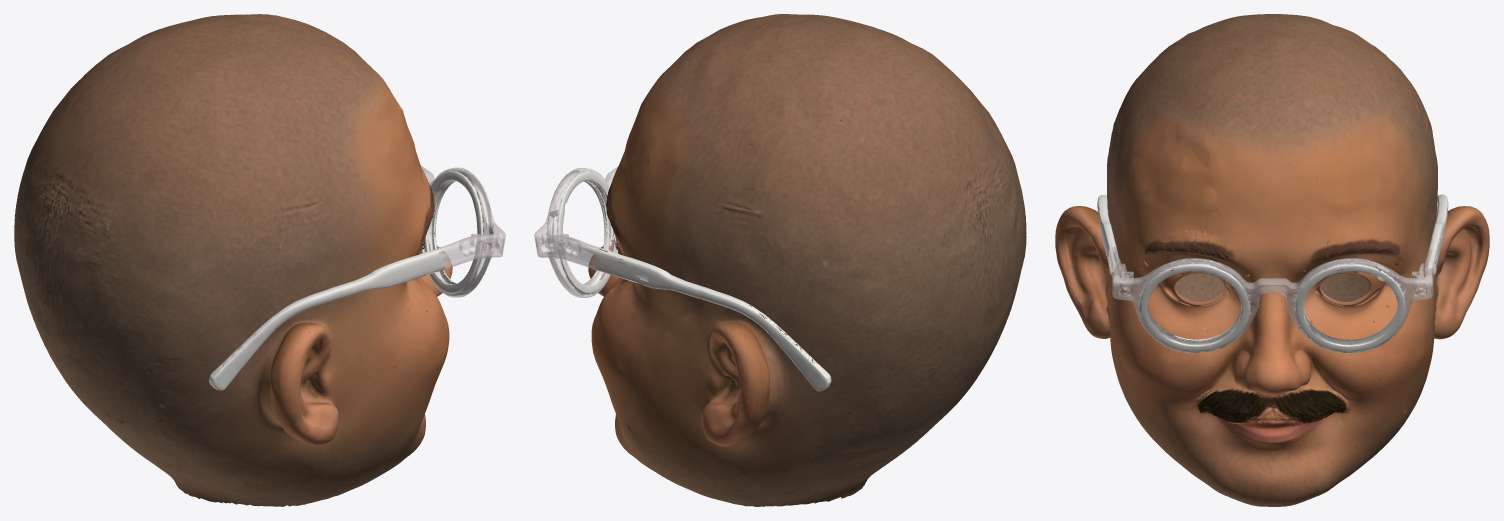
Rendered from head.glb.
3 views of the same model, side by side, from view 1: azimuth 30°, elevation 25°; view 2: azimuth 150°, elevation 25°; view 3: azimuth 270°, elevation 25° (orthographic). The views are drawn at different scales.
Parts seen in each view (by area): view 1: geometry_0, glasses; view 2: geometry_0, glasses; view 3: geometry_0, glasses.
Boxes of the visible parts, x1,y1,x2,y2 form: geometry_0: (14,14,452,506); glasses: (209,165,505,390); geometry_0: (588,14,1026,506); glasses: (534,166,831,391); geometry_0: (1055,14,1489,506); glasses: (1097,194,1448,353).
Bounding box in the file's own units: 0.4072 × 0.43 × 0.4181.
Materials: 4 (1 with a texture image).
